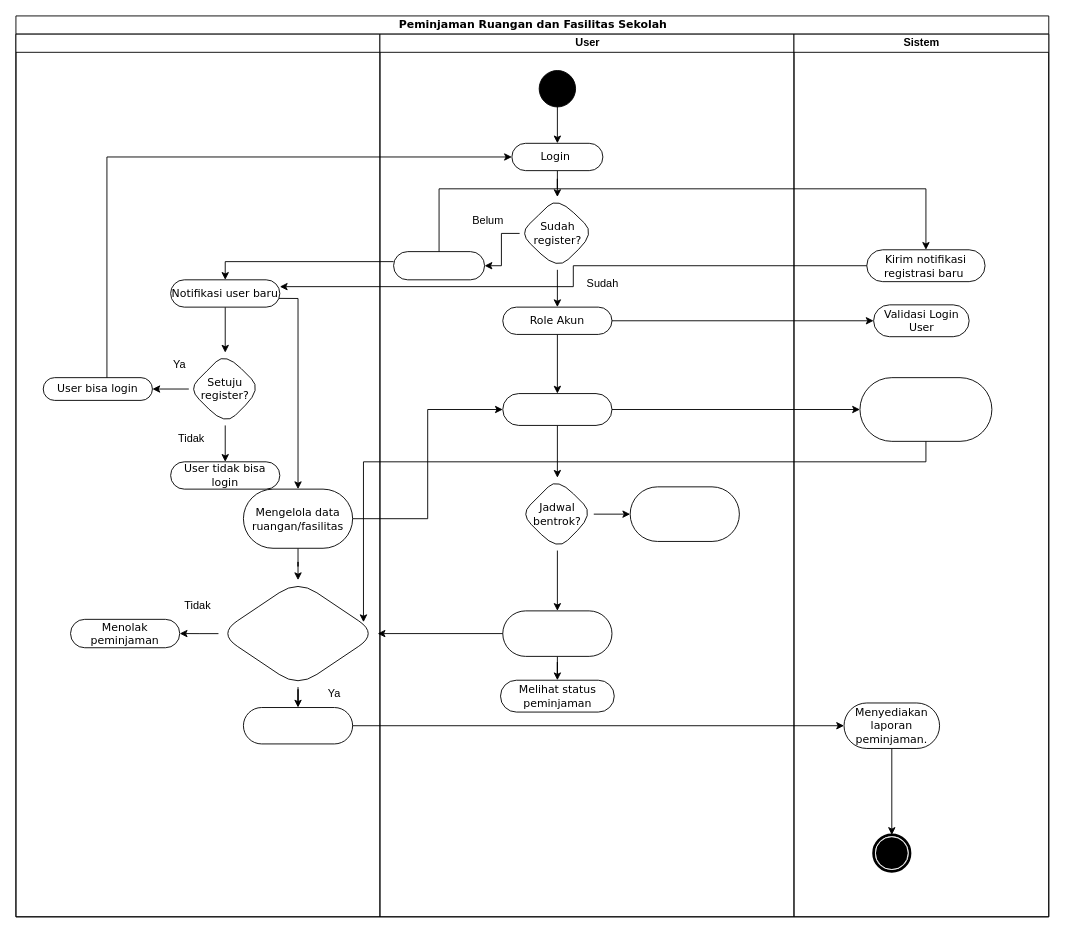
Image size: 1065x933. Some labels were removed from this diagram. Each missing label, with the box of its shape:
Admin: (15, 33, 380, 917)
Kirim notifikasi peminjaman baru: (859, 377, 992, 441)
Menerima notifikasi peminjaman ruangan.: (217, 579, 378, 687)
Pesan "Ruangan/Fasilitas sudah dipinjam": (629, 486, 739, 541)
Pilih Fasilitas/Ruangan: (502, 393, 612, 425)
Register: (393, 251, 485, 280)
Setuju peminjaman: (243, 707, 353, 744)
Simpan data peminjaman: (502, 610, 612, 656)
